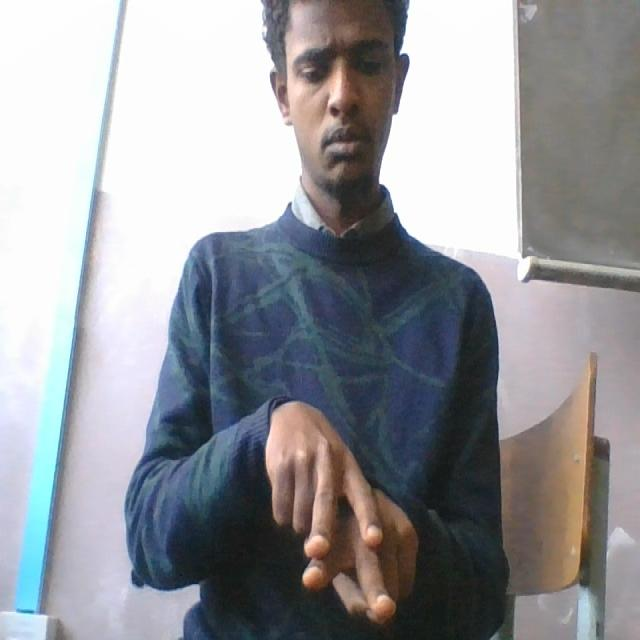babur: (253, 394, 418, 636)
